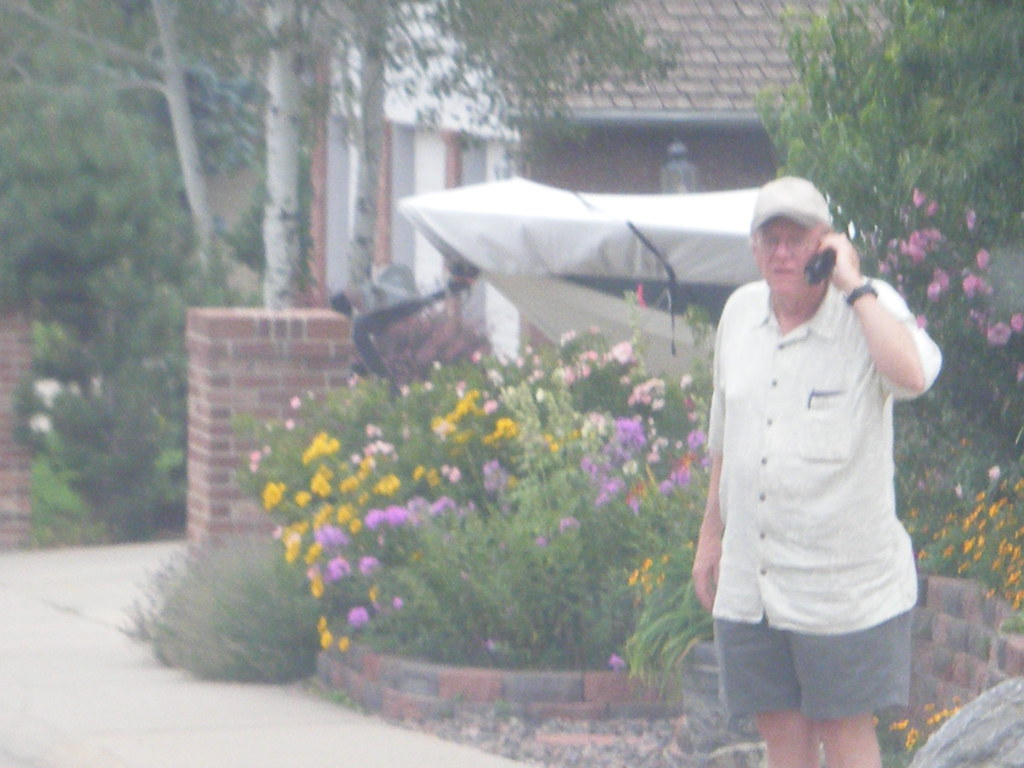phone: (805, 223, 843, 296)
talk: (765, 215, 861, 303)
